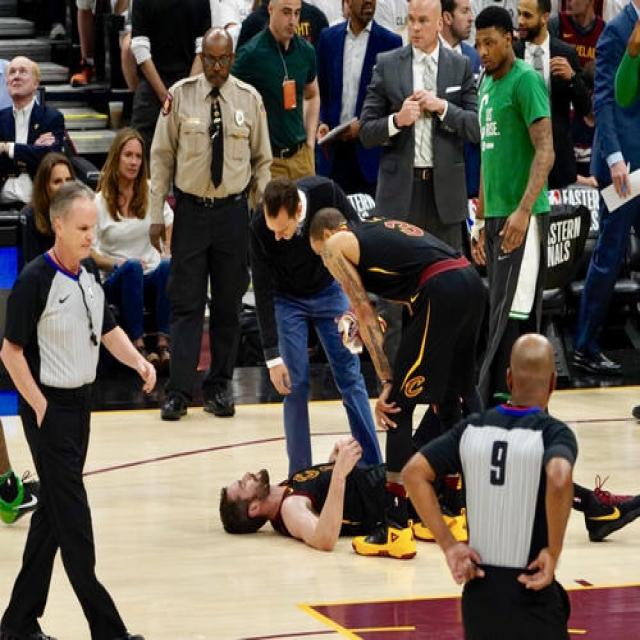10-: (0, 0, 638, 638)
down: (212, 429, 638, 547)
